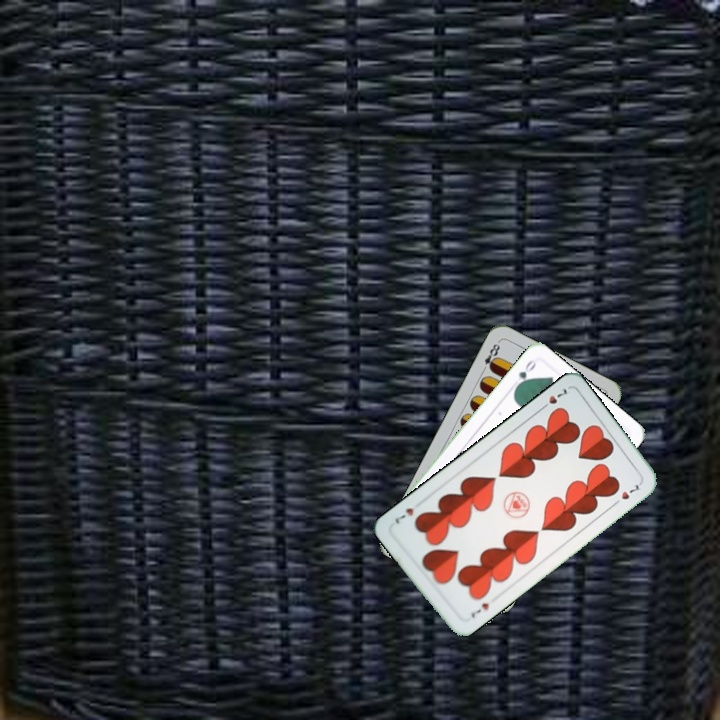E8: (477, 338, 503, 375)
GO: (511, 356, 539, 392)
H7: (536, 383, 570, 413), (466, 599, 492, 620)
